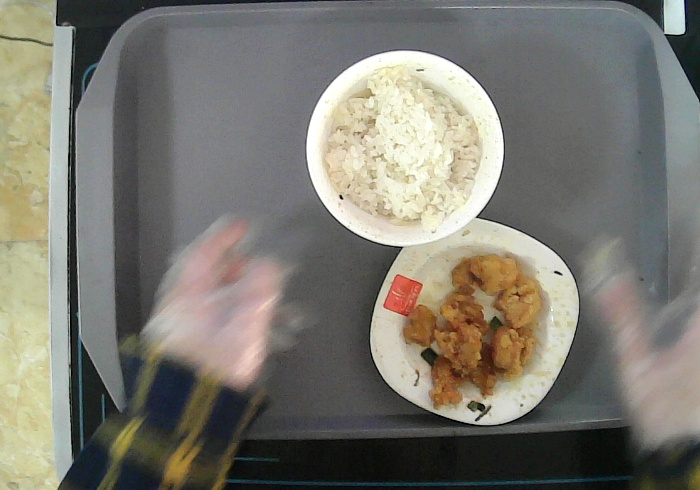SHKJ-Bai_Se_Si_Fang_Cai_Die: (370, 217, 579, 425)
SHKJ-Fan_Wan: (306, 49, 504, 247)
